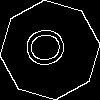O: (25, 25, 75, 69)
